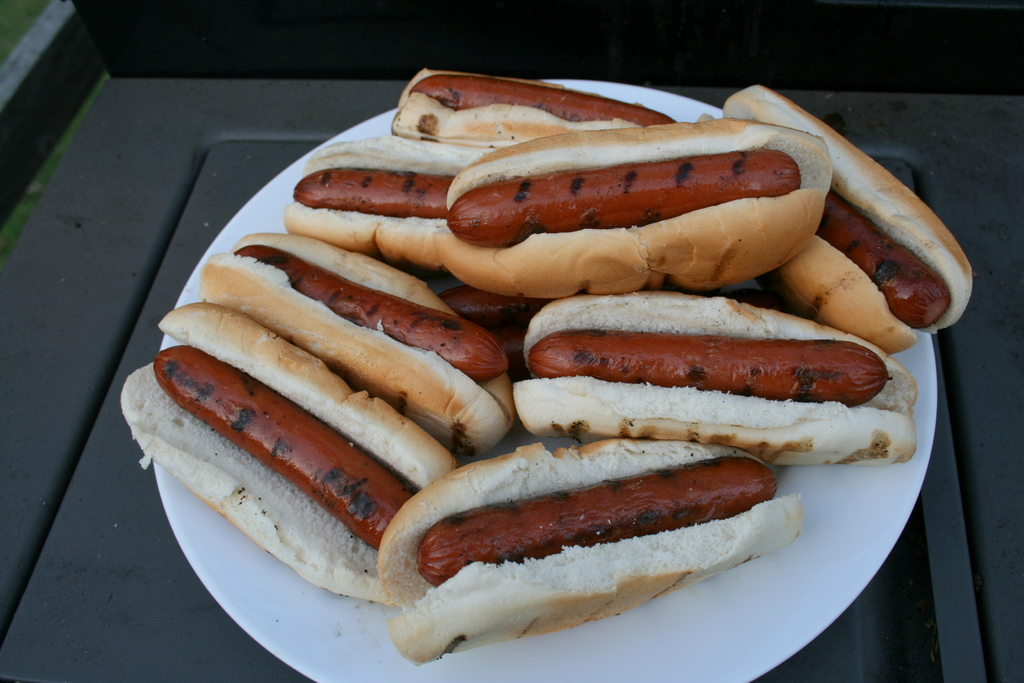hot_dog: (122, 67, 976, 667), (435, 118, 833, 302), (500, 279, 908, 456)
